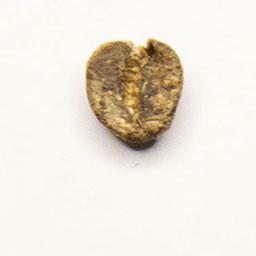defect: (76, 29, 192, 154)
